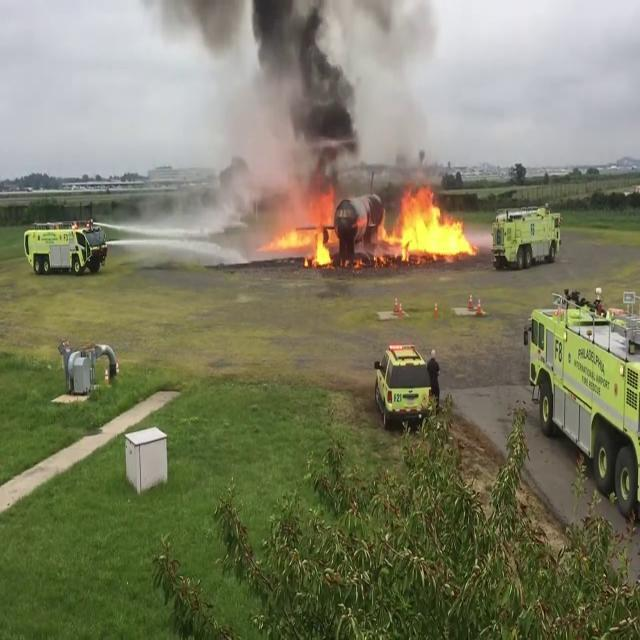Fire: (377, 187, 478, 265), (265, 204, 341, 267)
Smoke: (198, 0, 446, 186), (202, 0, 366, 191)
